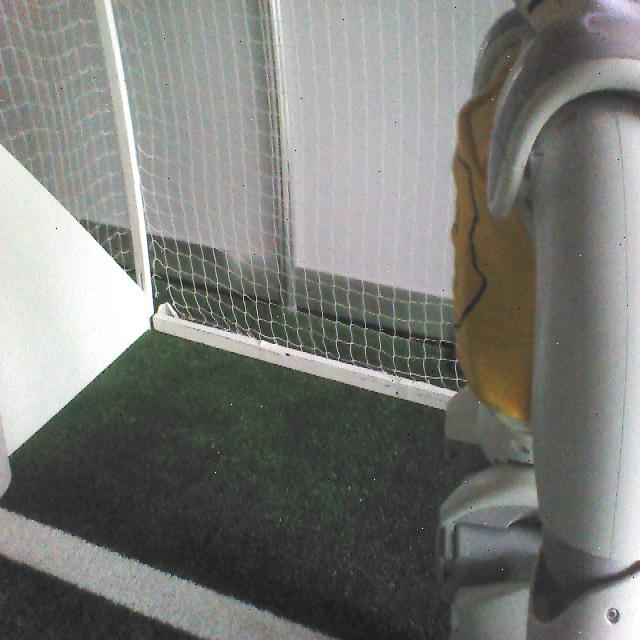goalpost: (1, 425, 17, 496)
